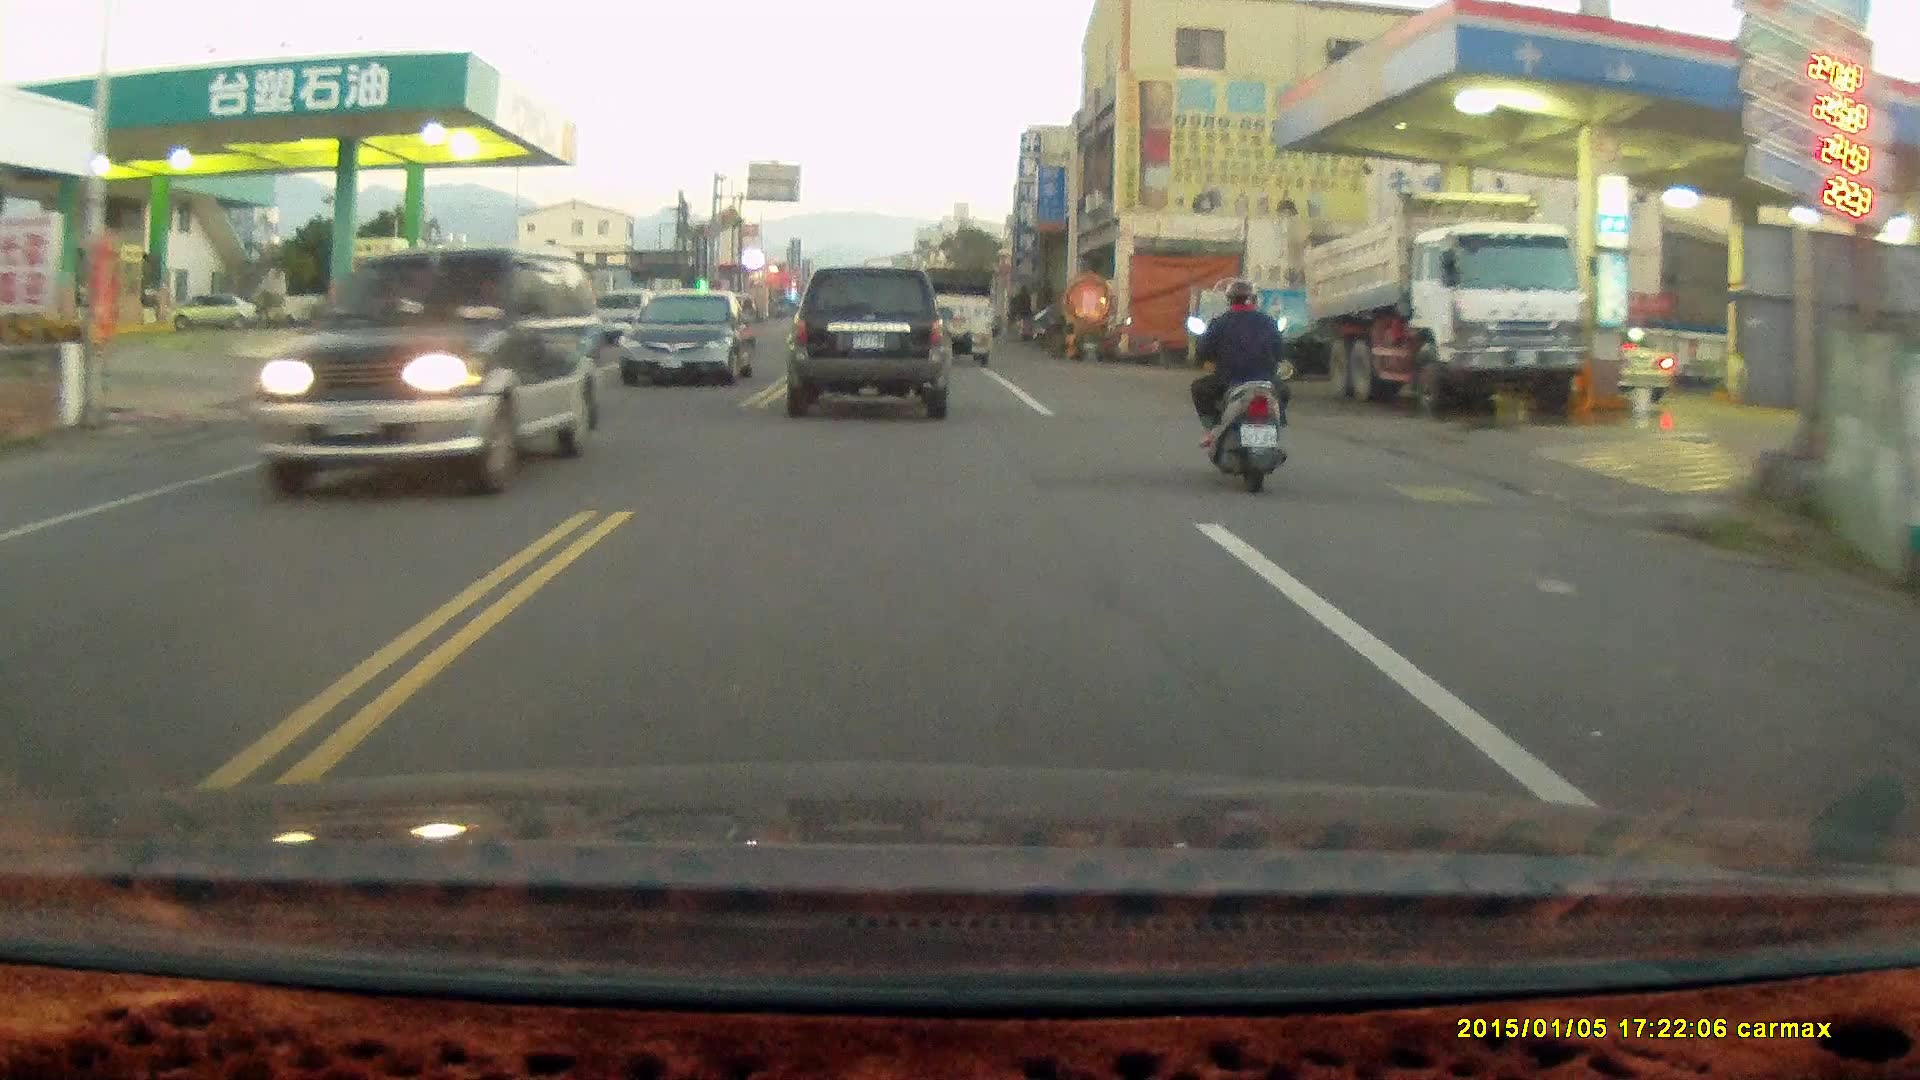rider: (1184, 270, 1291, 489)
vehicle: (250, 244, 613, 496), (1301, 185, 1589, 411), (792, 261, 954, 418), (620, 290, 762, 391), (901, 252, 994, 349)
